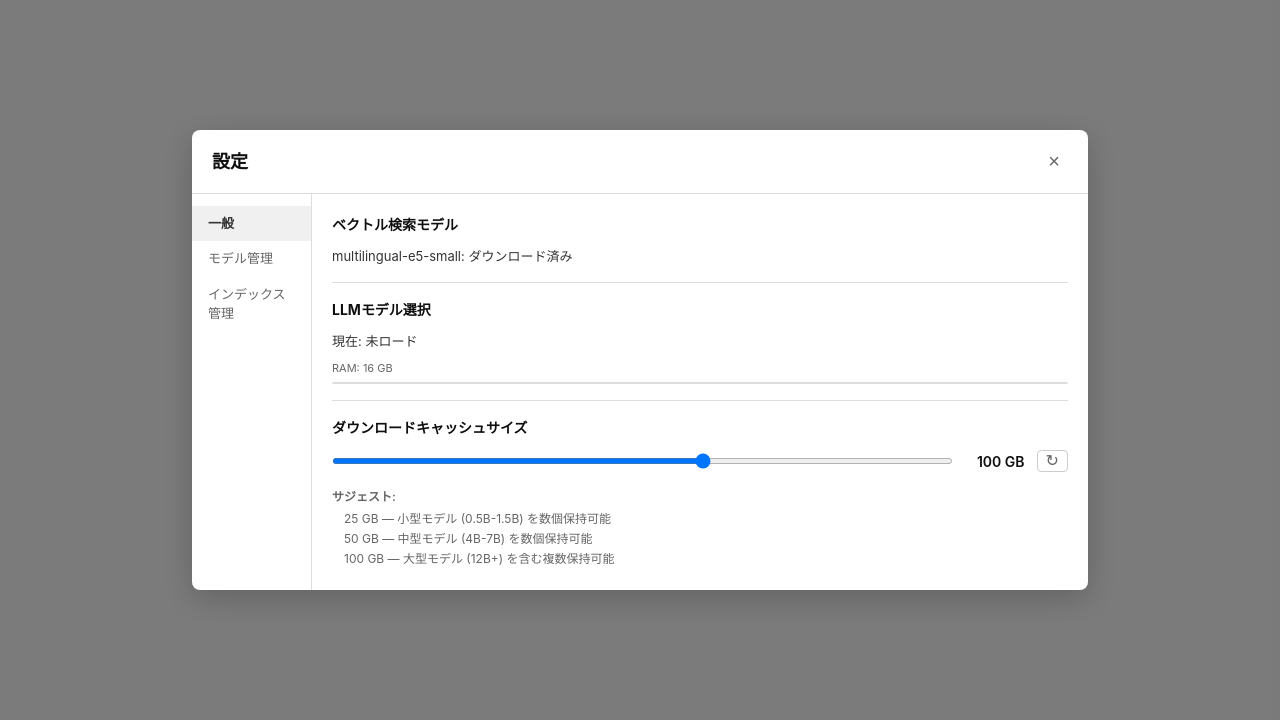
Test: SettingsDialog › モデル管理セクションに切り替えられる
The width and height of the screenshot is (1280, 720).
Expected: the heading "設定" is shown, [212, 148, 248, 175]
What coordinates should you click on to do the following:
click the text "モデル管理"
I would click on:
 (240, 258)
Its box is [208, 250, 273, 266].
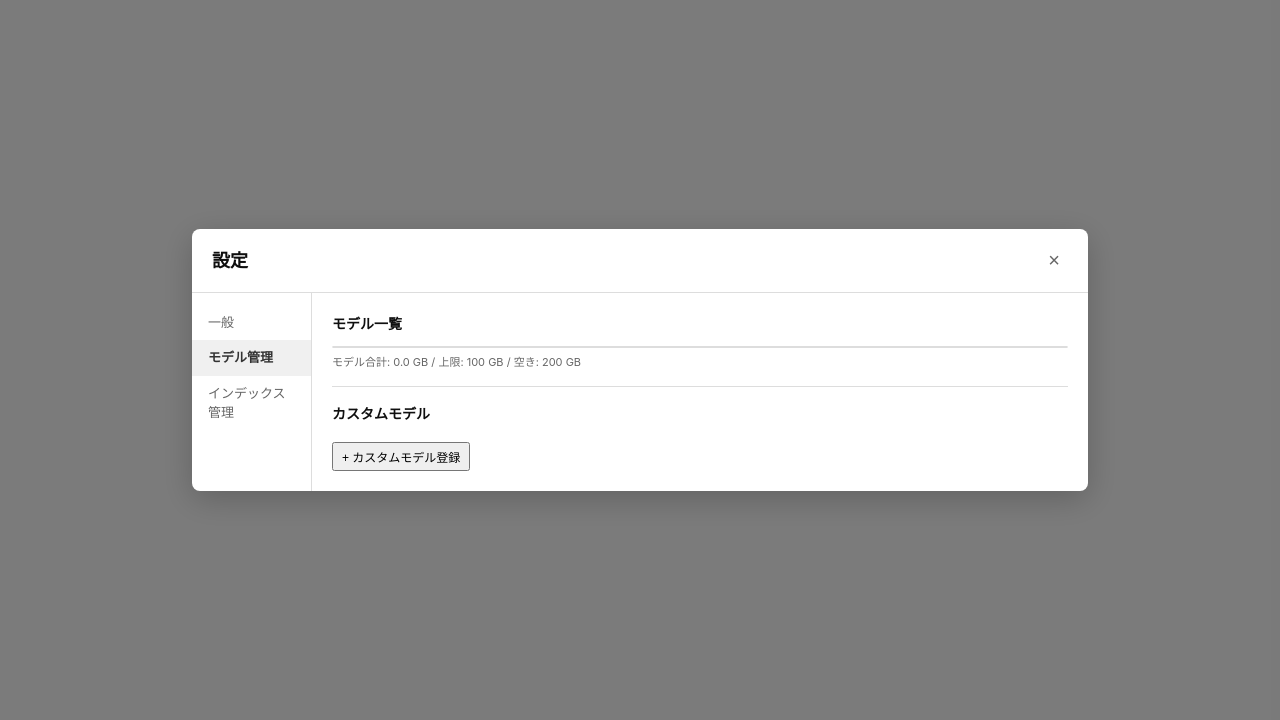
Expected: the heading "モデル一覧" is shown, [332, 315, 402, 332]
